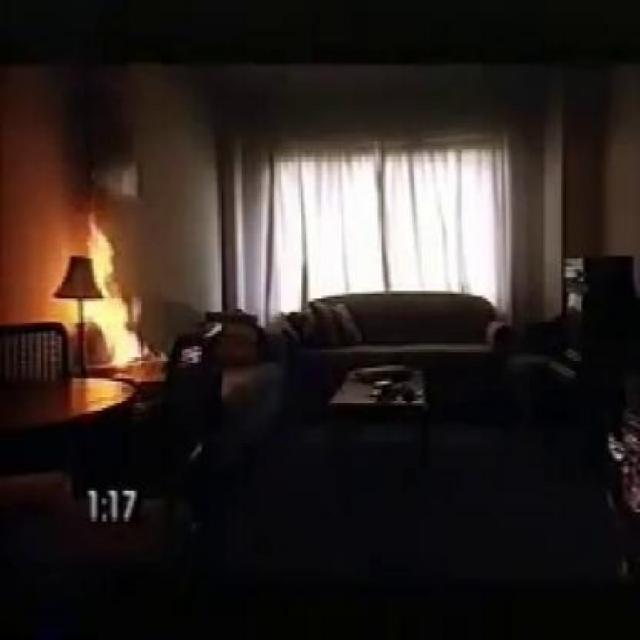fire: (68, 210, 132, 296), (90, 298, 158, 366)
